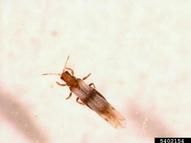Thrips: (42, 57, 131, 131)
